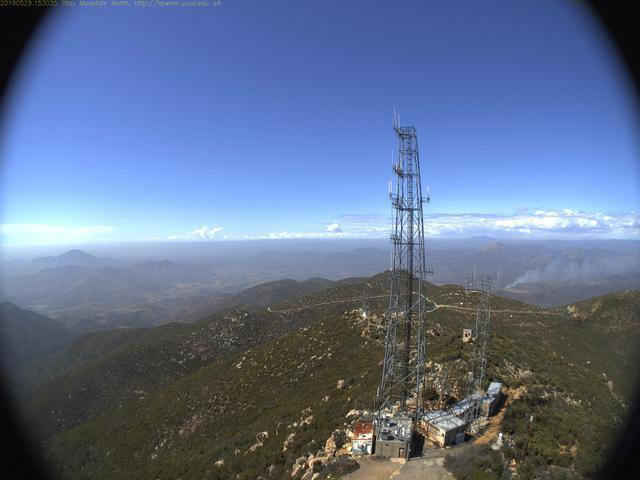smoke: (504, 251, 639, 293)
